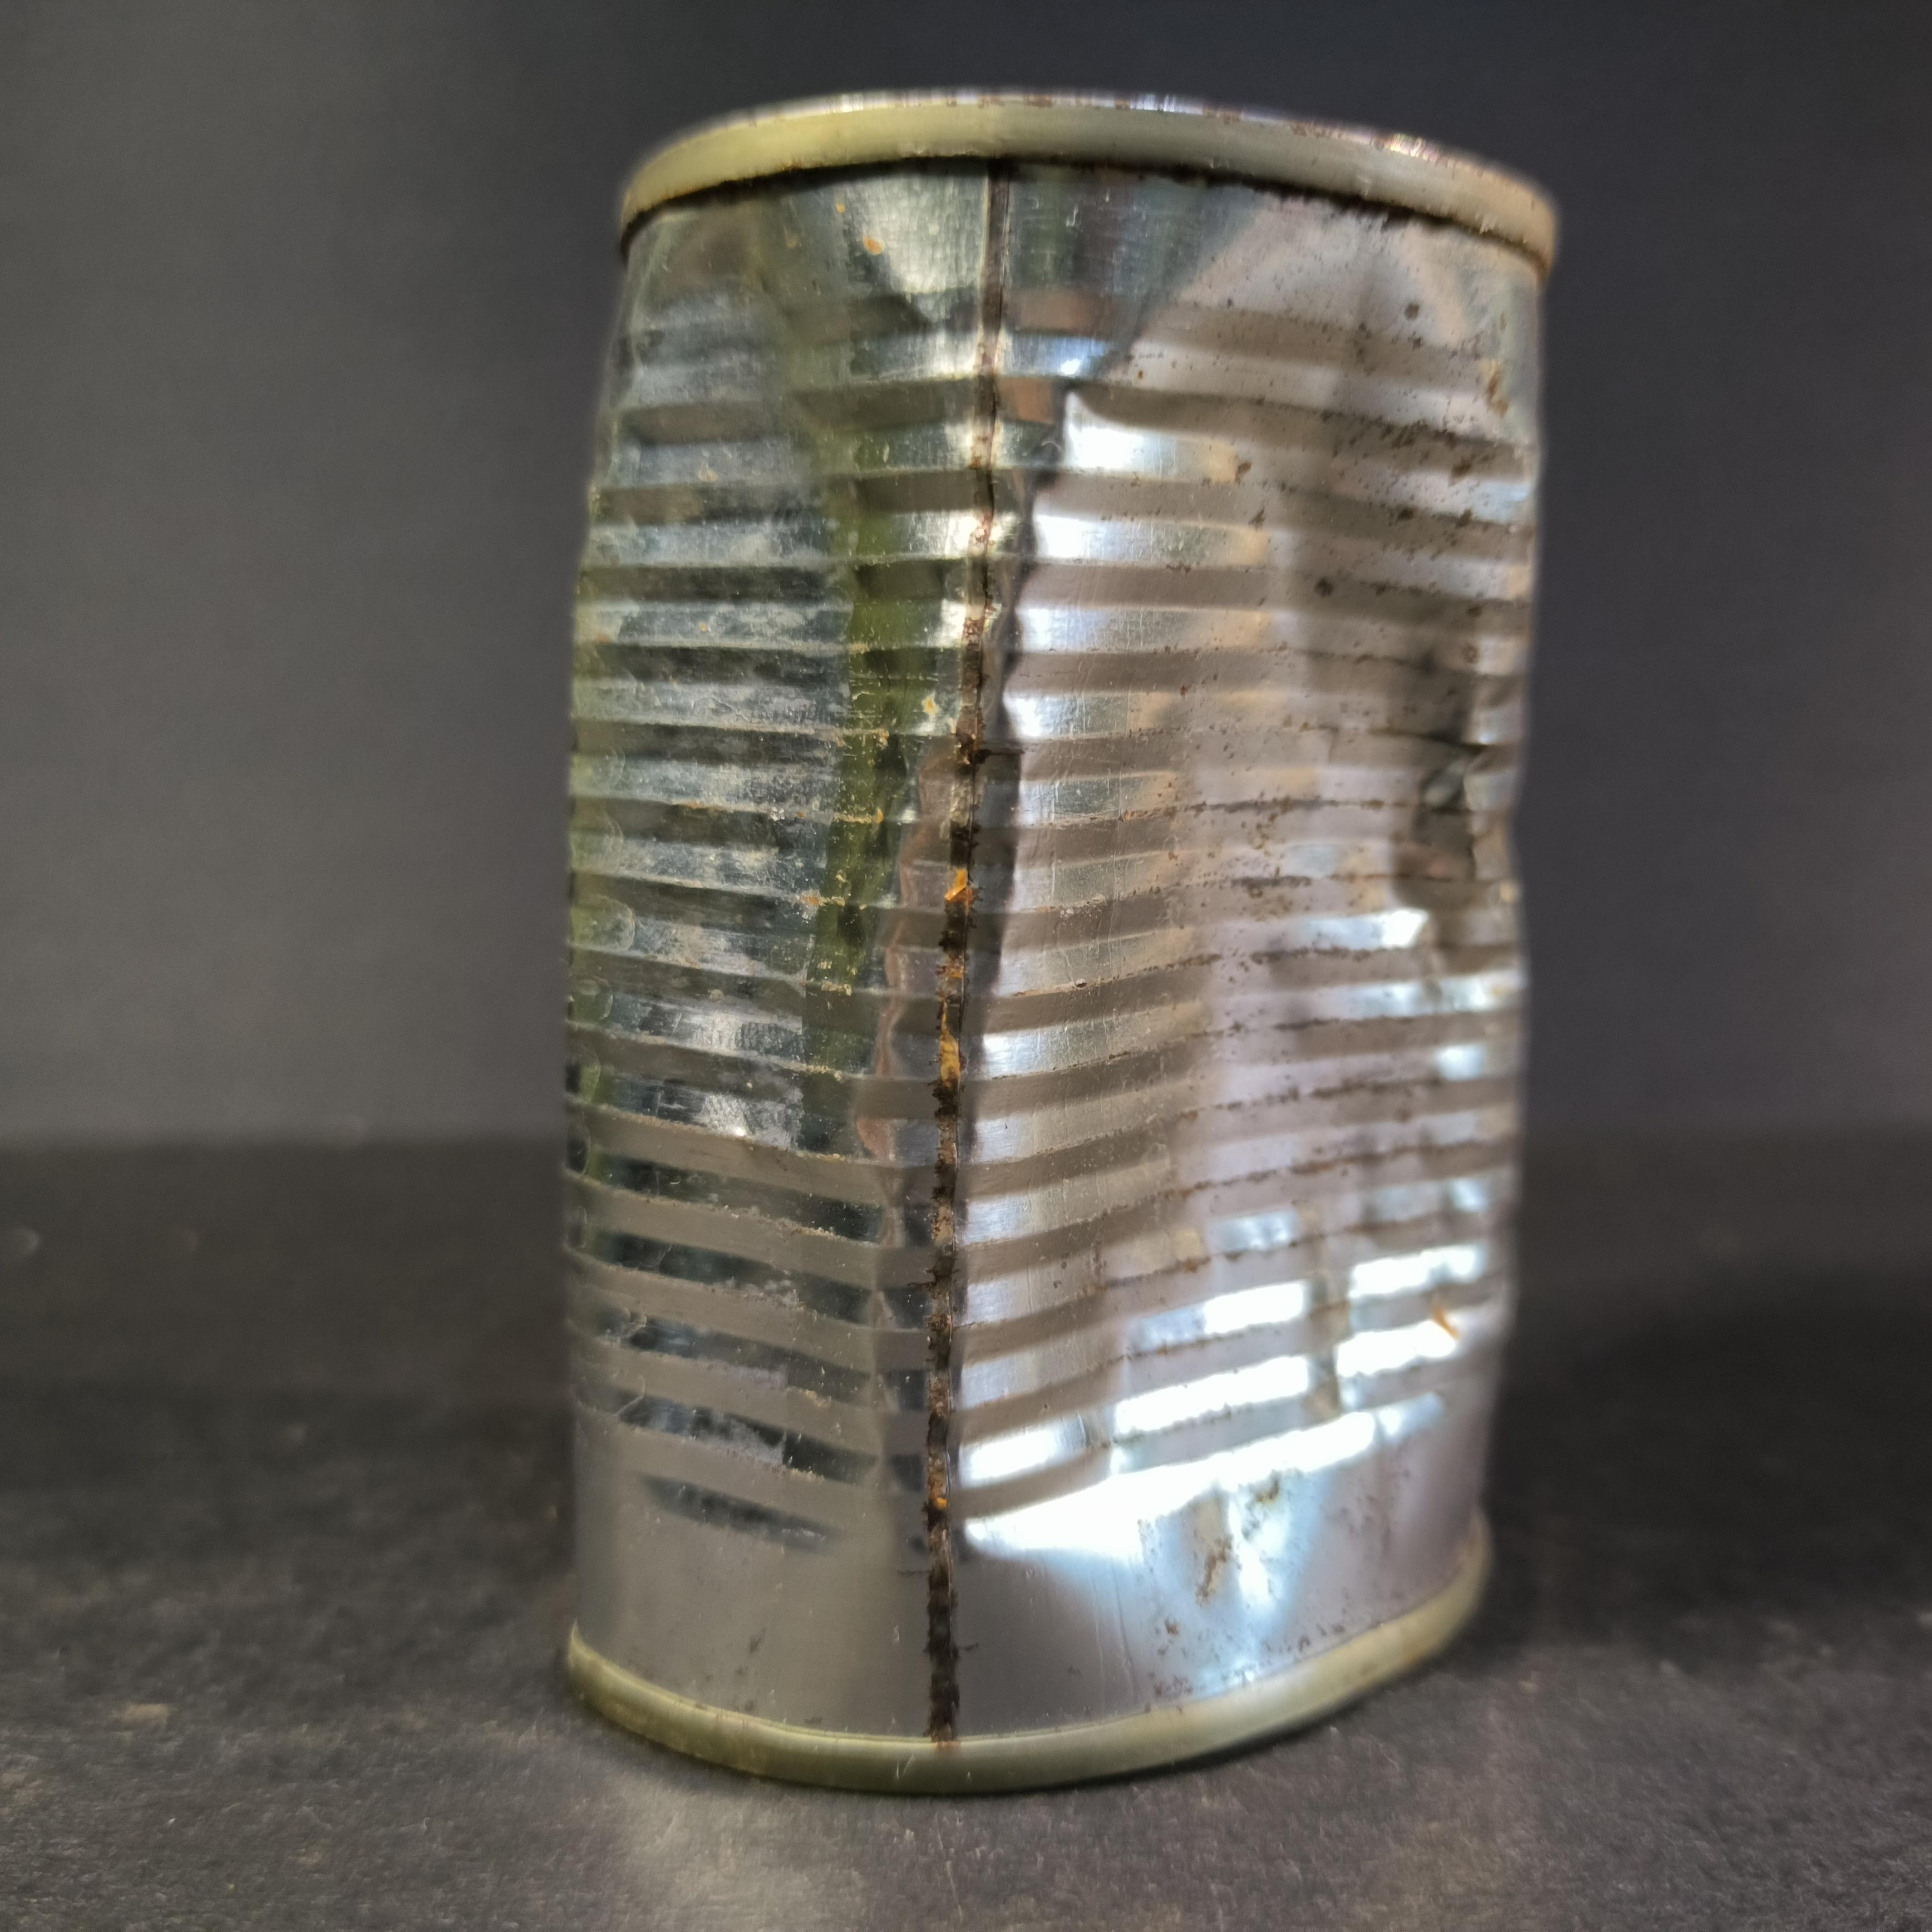Dented: (481, 34, 1550, 1813)
